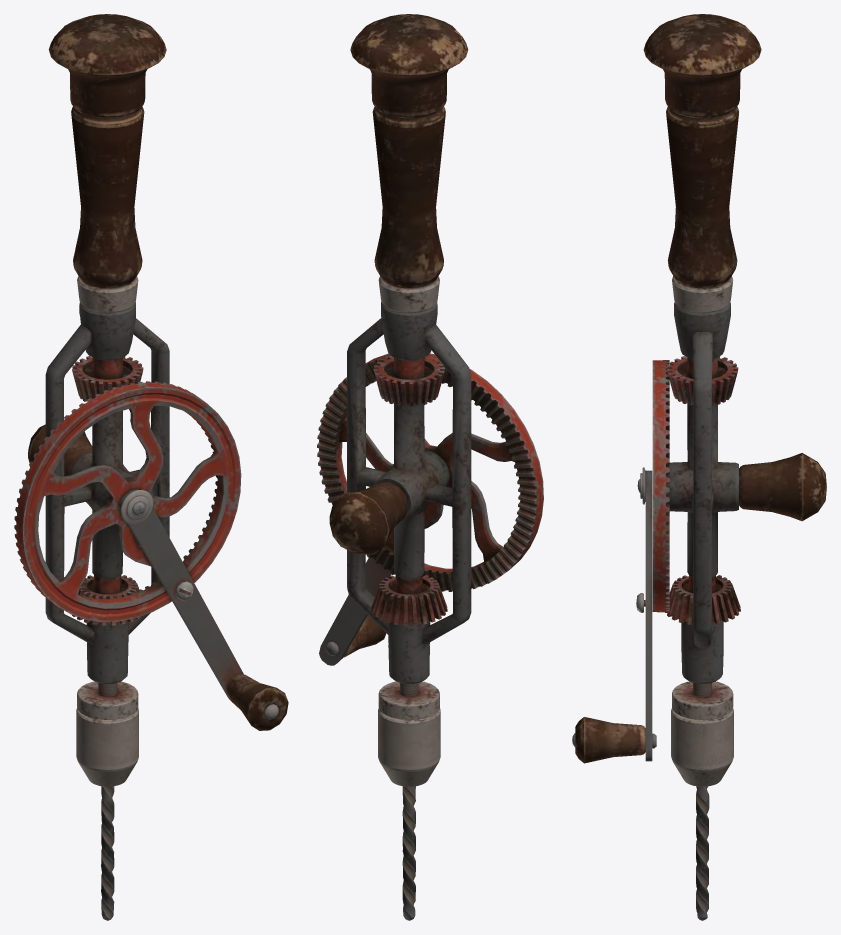
Rendered from vintage_hand_drill.48acdc0c.glb.
3 renders of one model, left to right at view 1: azimuth 30°, elevation 25°; view 2: azimuth 150°, elevation 25°; view 3: azimuth 270°, elevation 25°, orthographic.
Parts seen in each view (by area): view 1: Cylinder.087, vintage_hand_drill_crank, vintage_hand_drill_head, vintage_hand_drill_cog1, vintage_hand_drill_cog2; view 2: Cylinder.087, vintage_hand_drill_crank, vintage_hand_drill_head, vintage_hand_drill_cog2, vintage_hand_drill_cog1; view 3: Cylinder.087, vintage_hand_drill_crank, vintage_hand_drill_head, vintage_hand_drill_cog2, vintage_hand_drill_cog1.
Part boxes in pixels (x1,y1,x2,y2): Cylinder.087: [28, 14, 169, 683]; vintage_hand_drill_crank: [14, 381, 288, 730]; vintage_hand_drill_head: [76, 681, 138, 920]; vintage_hand_drill_cog1: [72, 356, 143, 401]; vintage_hand_drill_cog2: [72, 575, 142, 625]; Cylinder.087: [329, 14, 471, 683]; vintage_hand_drill_crank: [317, 353, 543, 665]; vintage_hand_drill_head: [378, 681, 440, 920]; vintage_hand_drill_cog2: [371, 575, 447, 625]; vintage_hand_drill_cog1: [373, 356, 444, 406]; Cylinder.087: [643, 14, 826, 683]; vintage_hand_drill_crank: [572, 360, 669, 763]; vintage_hand_drill_head: [671, 681, 733, 920]; vintage_hand_drill_cog2: [665, 575, 740, 624]; vintage_hand_drill_cog1: [667, 356, 738, 405].
Bounding box in the file's own units: 0.2702 × 1 × 0.2576.
Materials: 1 (1 with a texture image).
